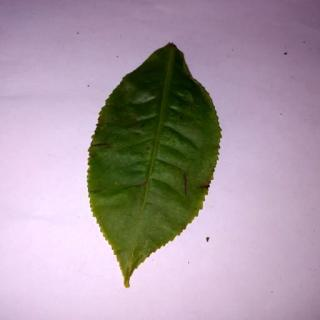Bird Eye Spot: (89, 42, 221, 290)
